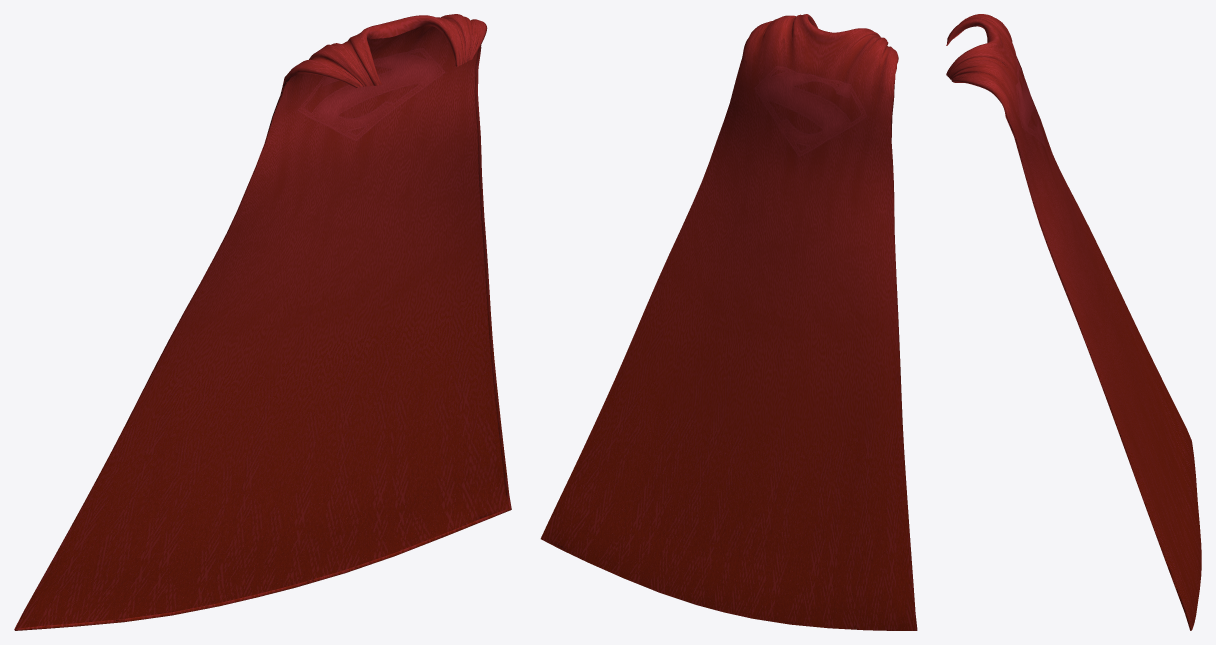
File: cape.fbx
3 renders of one model, left to right at view 1: azimuth 30°, elevation 25°; view 2: azimuth 150°, elevation 25°; view 3: azimuth 270°, elevation 25°, orthographic. The views are drawn at different scales.
Visible parts, largest first — view 1: 0001_SM_Cape_Kryptonian; view 2: 0001_SM_Cape_Kryptonian; view 3: 0001_SM_Cape_Kryptonian.
Part boxes in pixels (<box>): 0001_SM_Cape_Kryptonian: <box>14,14,511,630</box>; 0001_SM_Cape_Kryptonian: <box>540,14,917,630</box>; 0001_SM_Cape_Kryptonian: <box>946,14,1201,630</box>.
Size of the model in its own units: 152 by 198 by 86.8.
